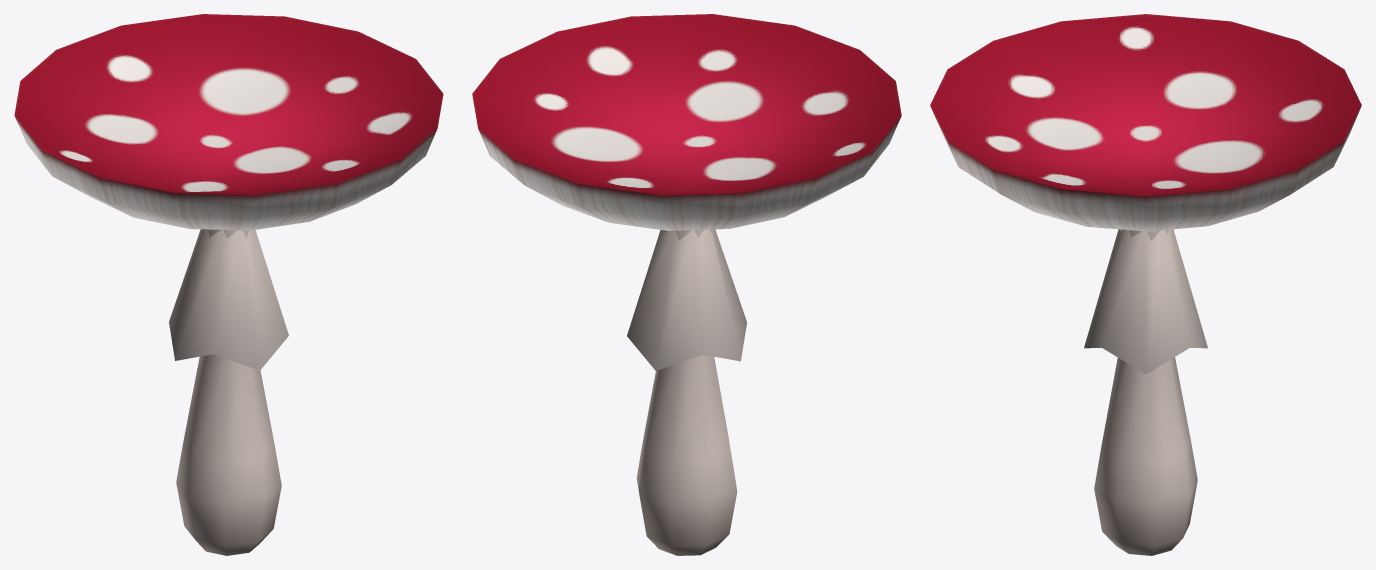
The model's file is Fly_Agaric_Big.fbx.
3 views of the same model, side by side, from view 1: azimuth 30°, elevation 25°; view 2: azimuth 150°, elevation 25°; view 3: azimuth 270°, elevation 25° (orthographic).
Visible parts, largest first — view 1: Fly_Agaric_Big; view 2: Fly_Agaric_Big; view 3: Fly_Agaric_Big.
Part boxes in pixels (x1=…): Fly_Agaric_Big: x1=14, y1=14, x2=443, y2=555; Fly_Agaric_Big: x1=472, y1=14, x2=901, y2=555; Fly_Agaric_Big: x1=930, y1=14, x2=1361, y2=555.
Size of the model in its own units: 17.67 by 19.78 by 17.67.
